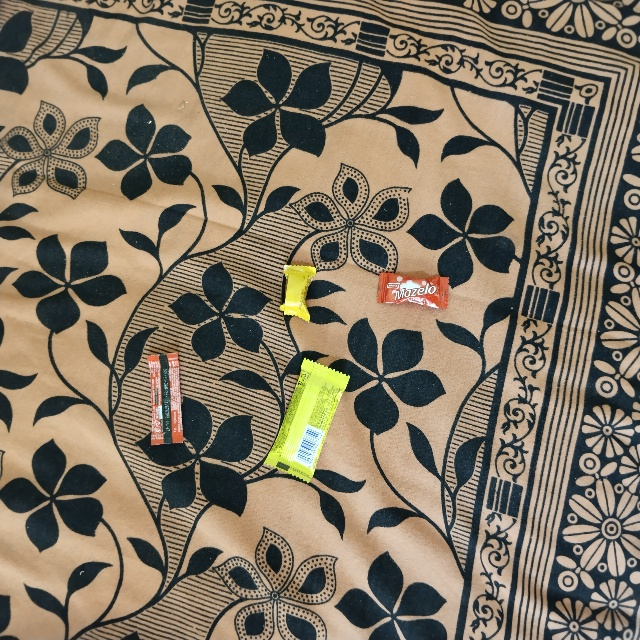Alpenlibe Creamfills: (278, 267, 314, 320)
Mazelo: (381, 267, 449, 310)
Nescafe Coffee: (146, 351, 186, 446)
Orbit: (306, 354, 359, 474)
